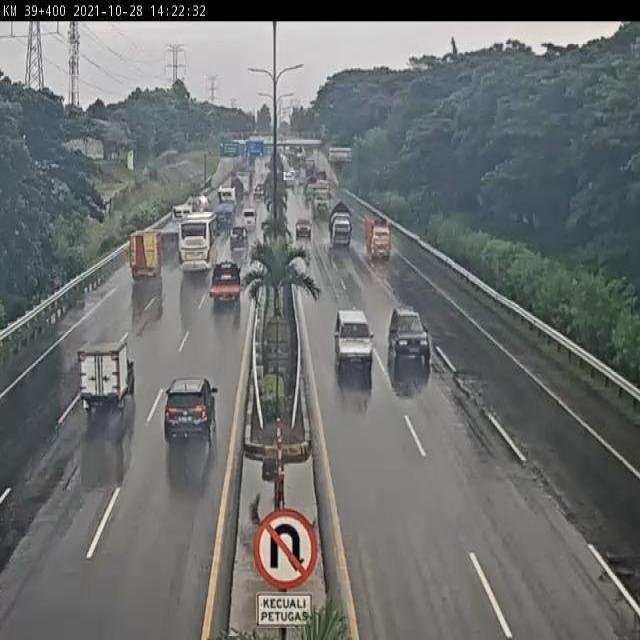ARABA: (163, 375, 218, 448), (331, 302, 375, 389), (389, 302, 431, 369), (211, 254, 242, 298), (228, 228, 250, 257), (295, 219, 313, 241), (243, 205, 258, 227), (251, 186, 264, 206)
KAMYONET: (77, 338, 142, 413), (362, 210, 394, 258), (166, 203, 196, 237), (330, 206, 351, 250), (230, 171, 251, 204)
OTOBUS: (178, 211, 220, 269)
TIR: (129, 227, 163, 277), (213, 184, 236, 223)
